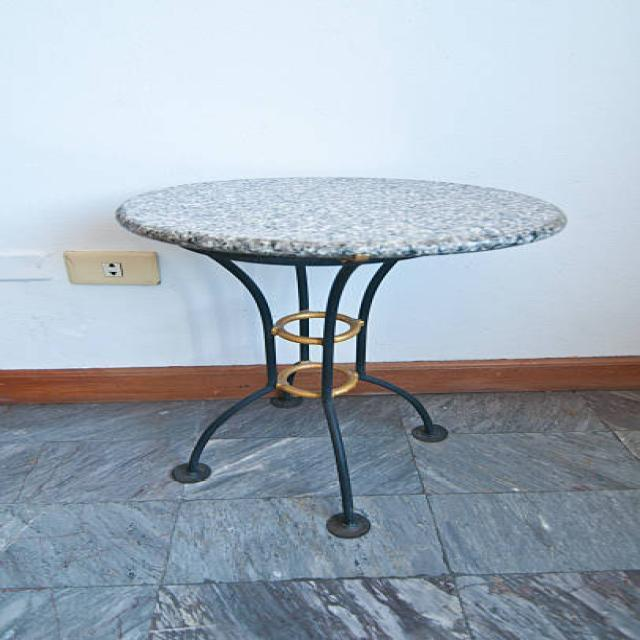table: (113, 175, 568, 538)
